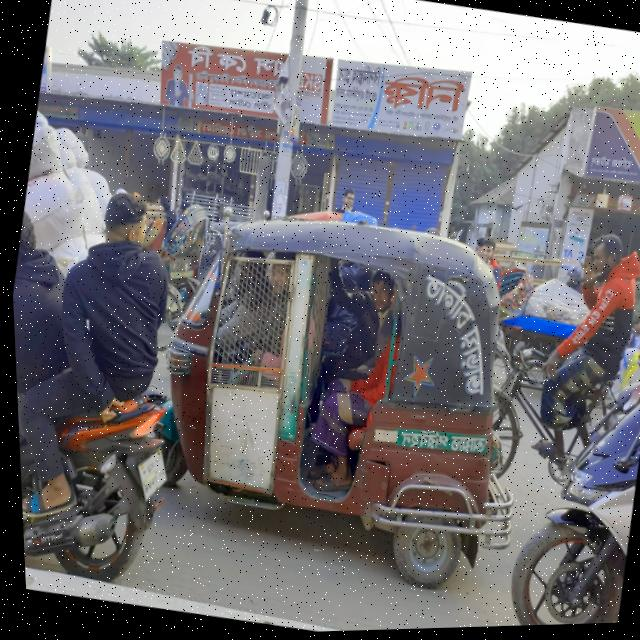cng: (105, 157, 561, 622)
